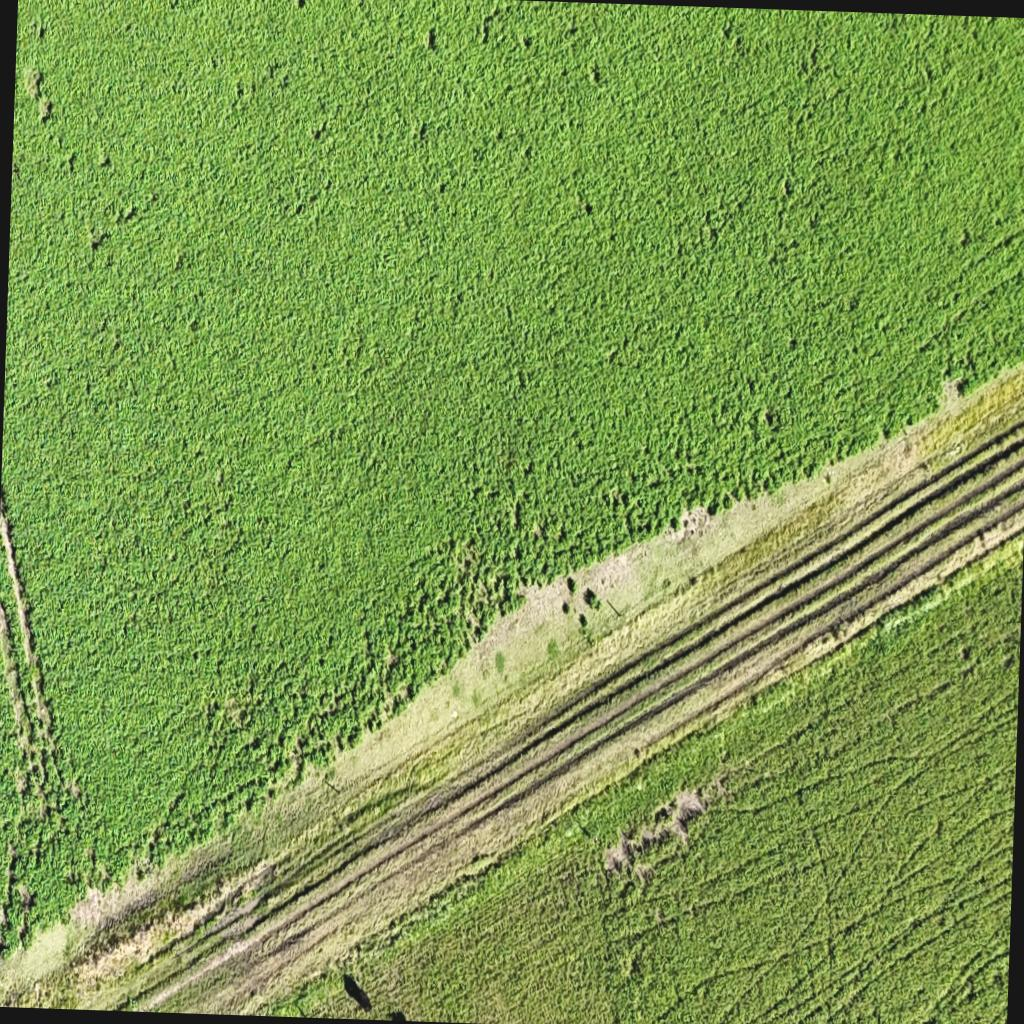cow: (350, 980, 373, 1012)
